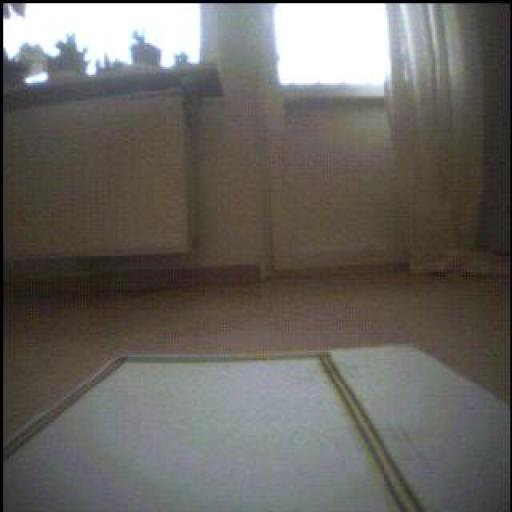Pad: (4, 350, 457, 512)
